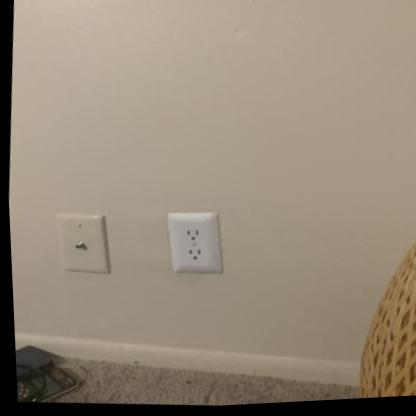OUTLET: (164, 208, 227, 277)
